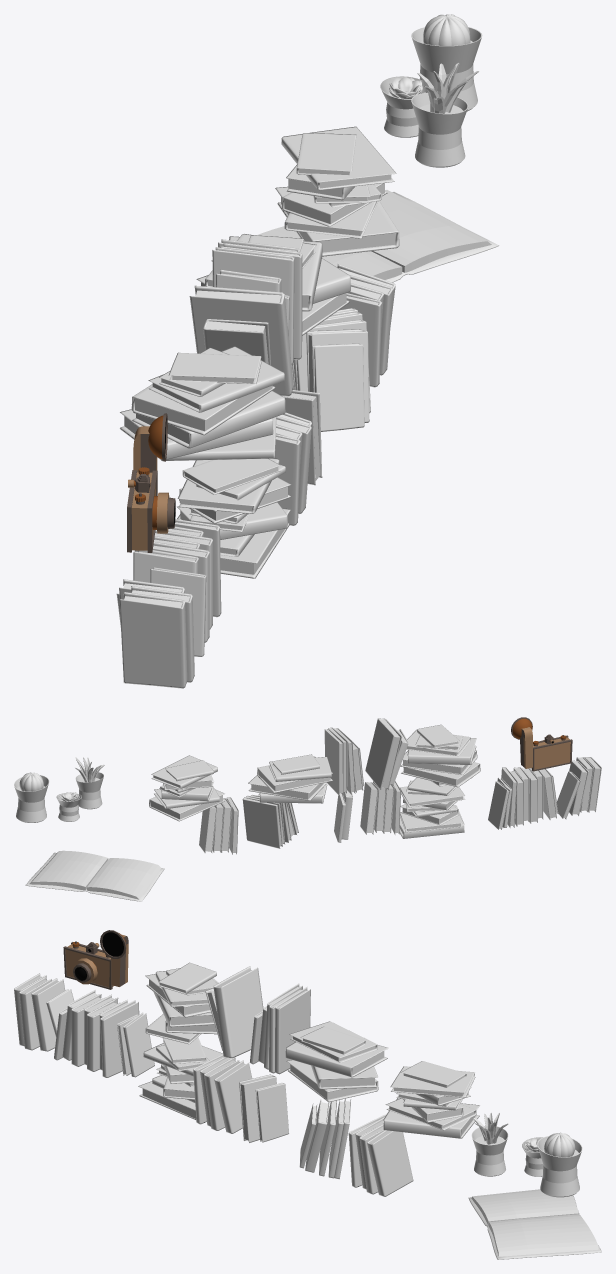
Rendered from chambre test biblio m4.fbx.
The picture shows the model from 3 angles, top to bottom: view 1: azimuth 30°, elevation 25°; view 2: azimuth 150°, elevation 25°; view 3: azimuth 270°, elevation 25°; orthographic projection. The views are drawn at different scales.
Visible parts, largest first — view 1: Livre_Ouvert_A.001|Livre_Ouvert_A|Dupli|, Livre_Fermee_B.219|Livre_Fermee_B|Dupli|, Livre_Fermee_D.060|Livre_Fermee_D|Dupli|, Appareil_Photo|Appareil_Photo.001|Dupli|, Plante_B.003|Plante_B|Dupli|, Livre_Fermee_A.146|Livre_Fermee_A|Dupli|, Plante_A.003|Plante_A|Dupli|, Livre_Fermee_D.053|Livre_Fermee_D|Dupli|, Livre_Fermee_C.103|Livre_Fermee_C|Dupli|, Livre_Fermee_C.106|Livre_Fermee_C|Dupli|, Livre_Fermee_A.065|Livre_Fermee_A|Dupli|, Livre_Fermee_D.059|Livre_Fermee_D|Dupli| (+32 smaller); view 2: Livre_Ouvert_A.001|Livre_Ouvert_A|Dupli|, Appareil_Photo|Appareil_Photo.001|Dupli|, Livre_Fermee_D.060|Livre_Fermee_D|Dupli|, Livre_Fermee_C.224|Livre_Fermee_C|Dupli|, Plante_A.003|Plante_A|Dupli|, Plante_B.003|Plante_B|Dupli|, Livre_Fermee_C.104|Livre_Fermee_C|Dupli|, Livre_Fermee_D.053|Livre_Fermee_D|Dupli|, Livre_Fermee_D.055|Livre_Fermee_D|Dupli|, Livre_Fermee_D.056|Livre_Fermee_D|Dupli|, Livre_Fermee_D.057|Livre_Fermee_D|Dupli|, Livre_Fermee_D.059|Livre_Fermee_D|Dupli| (+44 smaller); view 3: Livre_Ouvert_A.001|Livre_Ouvert_A|Dupli|, Livre_Fermee_D.060|Livre_Fermee_D|Dupli|, Appareil_Photo|Appareil_Photo.001|Dupli|, Plante_A.003|Plante_A|Dupli|, Livre_Fermee_B.235|Livre_Fermee_B|Dupli|, Livre_Fermee_C.104|Livre_Fermee_C|Dupli|, Plante_B.003|Plante_B|Dupli|, Livre_Fermee_A.155|Livre_Fermee_A|Dupli|, Livre_Fermee_D.056|Livre_Fermee_D|Dupli|, Livre_Fermee_B.229|Livre_Fermee_B|Dupli|, Livre_Fermee_C.225|Livre_Fermee_C|Dupli|, Livre_Fermee_D.059|Livre_Fermee_D|Dupli| (+40 smaller).
Boxes of the visible parts, box(x1,y1,x2,y2) form: Livre_Ouvert_A.001|Livre_Ouvert_A|Dupli|: box(211, 190, 498, 282); Livre_Fermee_B.219|Livre_Fermee_B|Dupli|: box(119, 592, 187, 688); Livre_Fermee_D.060|Livre_Fermee_D|Dupli|: box(189, 285, 293, 396); Appareil_Photo|Appareil_Photo.001|Dupli|: box(127, 413, 175, 552); Plante_B.003|Plante_B|Dupli|: box(411, 63, 479, 167); Livre_Fermee_A.146|Livre_Fermee_A|Dupli|: box(312, 343, 364, 431); Plante_A.003|Plante_A|Dupli|: box(411, 14, 482, 111); Livre_Fermee_D.053|Livre_Fermee_D|Dupli|: box(131, 384, 275, 435); Livre_Fermee_C.103|Livre_Fermee_C|Dupli|: box(281, 126, 396, 190); Livre_Fermee_C.106|Livre_Fermee_C|Dupli|: box(212, 247, 294, 364); Livre_Fermee_A.065|Livre_Fermee_A|Dupli|: box(168, 352, 261, 383); Livre_Fermee_D.059|Livre_Fermee_D|Dupli|: box(275, 186, 399, 256); Livre_Ouvert_A.001|Livre_Ouvert_A|Dupli|: box(25, 850, 164, 901); Appareil_Photo|Appareil_Photo.001|Dupli|: box(511, 717, 572, 771); Livre_Fermee_D.060|Livre_Fermee_D|Dupli|: box(365, 718, 402, 789); Livre_Fermee_C.224|Livre_Fermee_C|Dupli|: box(242, 797, 282, 848); Plante_A.003|Plante_A|Dupli|: box(14, 772, 49, 822); Plante_B.003|Plante_B|Dupli|: box(75, 757, 104, 809); Livre_Fermee_C.104|Livre_Fermee_C|Dupli|: box(324, 729, 343, 795); Livre_Fermee_D.053|Livre_Fermee_D|Dupli|: box(407, 738, 476, 764); Livre_Fermee_D.055|Livre_Fermee_D|Dupli|: box(401, 762, 480, 787); Livre_Fermee_D.056|Livre_Fermee_D|Dupli|: box(257, 756, 332, 792); Livre_Fermee_D.057|Livre_Fermee_D|Dupli|: box(248, 775, 326, 800); Livre_Fermee_D.059|Livre_Fermee_D|Dupli|: box(149, 789, 224, 821); Livre_Ouvert_A.001|Livre_Ouvert_A|Dupli|: box(468, 1189, 601, 1259); Livre_Fermee_D.060|Livre_Fermee_D|Dupli|: box(213, 966, 263, 1058); Appareil_Photo|Appareil_Photo.001|Dupli|: box(63, 930, 128, 989); Plante_A.003|Plante_A|Dupli|: box(537, 1132, 582, 1197); Livre_Fermee_B.235|Livre_Fermee_B|Dupli|: box(367, 1130, 413, 1196); Livre_Fermee_C.104|Livre_Fermee_C|Dupli|: box(275, 987, 310, 1074); Plante_B.003|Plante_B|Dupli|: box(471, 1113, 508, 1176); Livre_Fermee_A.155|Livre_Fermee_A|Dupli|: box(255, 1083, 288, 1142); Livre_Fermee_D.056|Livre_Fermee_D|Dupli|: box(285, 1042, 388, 1077); Livre_Fermee_B.229|Livre_Fermee_B|Dupli|: box(214, 1060, 252, 1133); Livre_Fermee_C.225|Livre_Fermee_C|Dupli|: box(100, 1000, 139, 1077); Livre_Fermee_D.059|Livre_Fermee_D|Dupli|: box(383, 1098, 479, 1138).
Bounding box in the file's own units: 151 × 41.54 × 157.
